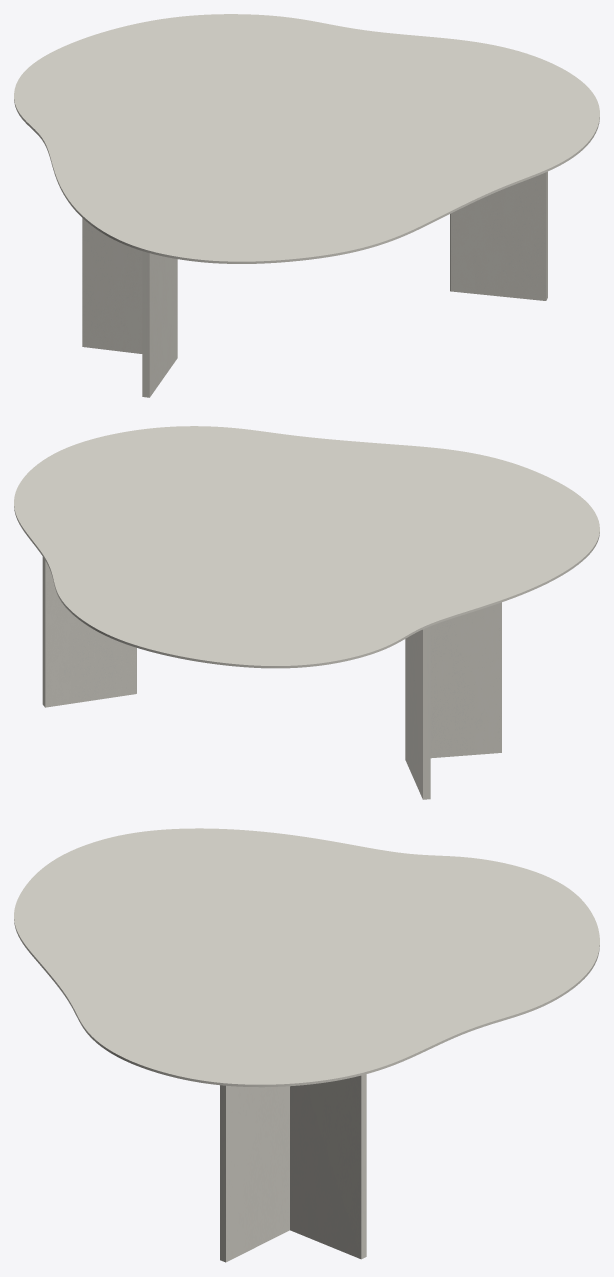
Rendered from pale_topone_facet_valleyv.glb.
3 renders of one model, top to bottom at view 1: azimuth 30°, elevation 25°; view 2: azimuth 150°, elevation 25°; view 3: azimuth 270°, elevation 25°, orthographic. The views are drawn at different scales.
Visible parts, largest first — view 1: facet_topone, valleyv; view 2: facet_topone, valleyv; view 3: facet_topone, valleyv.
Boxes of the visible parts, x1,y1,x2,y2 form: facet_topone: [14, 14, 599, 263]; valleyv: [82, 171, 547, 397]; facet_topone: [14, 426, 599, 668]; valleyv: [42, 557, 501, 799]; facet_topone: [14, 828, 599, 1087]; valleyv: [220, 1074, 366, 1262].
Bounding box in the file's own units: 6.83 × 2.5 × 6.6.
1 material, 1 textured.
